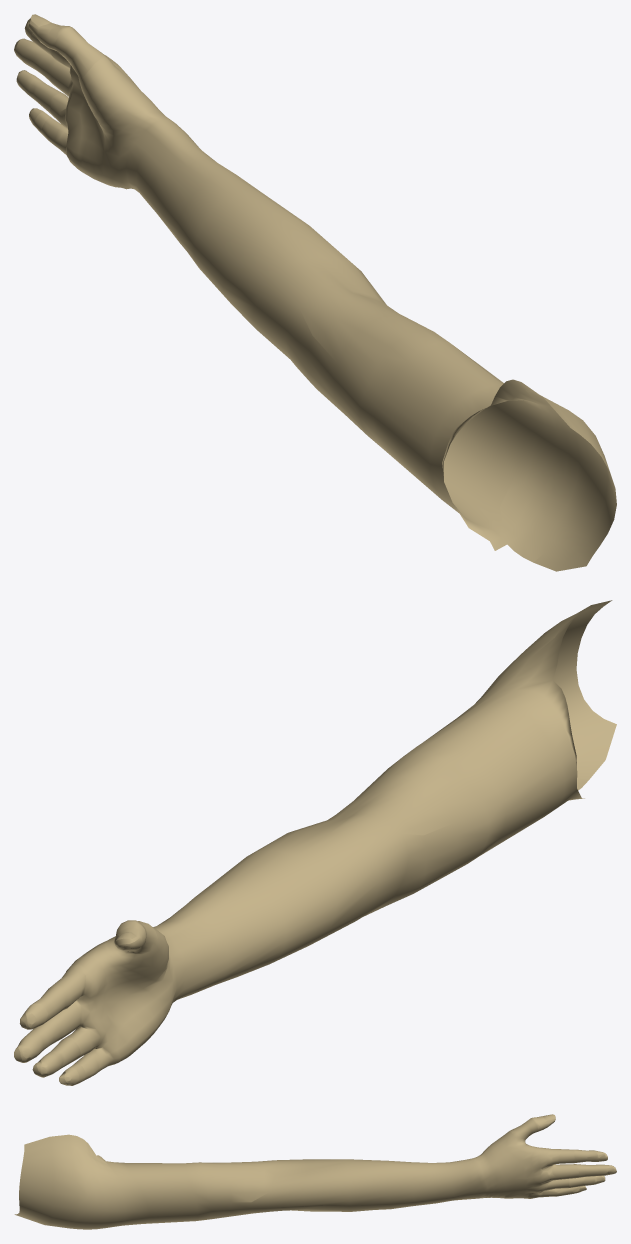
The model's file is Hand.fbx.
3 views of the same model, one above another, from view 1: azimuth 30°, elevation 25°; view 2: azimuth 150°, elevation 25°; view 3: azimuth 270°, elevation 25° (orthographic). The views are drawn at different scales.
Visible parts, largest first — view 1: polySurface75; view 2: polySurface75; view 3: polySurface75.
Boxes of the visible parts, x1=… form: polySurface75: x1=14, y1=14, x2=616, y2=571; polySurface75: x1=14, y1=600, x2=616, y2=1085; polySurface75: x1=14, y1=1114, x2=616, y2=1229.
Bounding box in the file's own units: 10.33 × 16.93 × 89.12.
